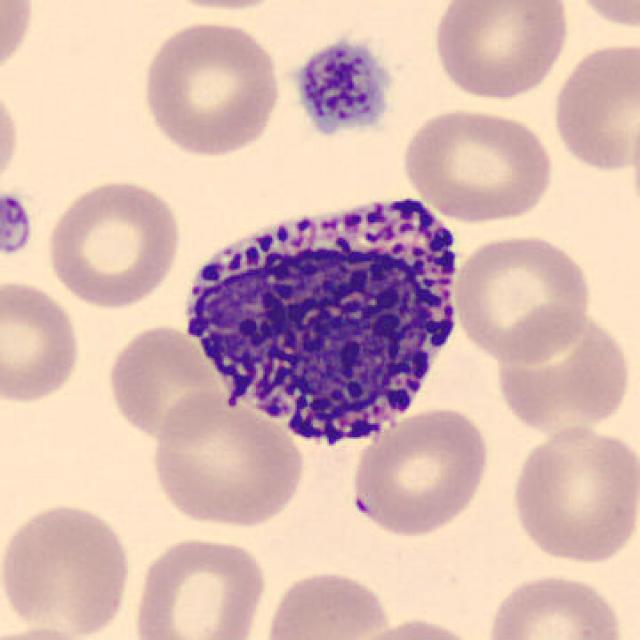Basophil: (170, 177, 474, 466)
Platelets: (290, 36, 394, 140), (0, 192, 34, 258)
RBC: (146, 384, 309, 531), (137, 16, 284, 160), (489, 303, 635, 439), (448, 229, 594, 365), (347, 404, 492, 540), (396, 104, 556, 226), (0, 497, 137, 638), (43, 174, 185, 310), (507, 421, 638, 568), (103, 319, 233, 444), (128, 532, 270, 640), (428, 0, 572, 102), (548, 37, 638, 176), (0, 275, 84, 407), (480, 569, 629, 640), (259, 566, 396, 640), (341, 615, 489, 640), (0, 0, 37, 83), (0, 78, 23, 196), (565, 0, 639, 33), (146, 0, 298, 14), (0, 622, 101, 639)
